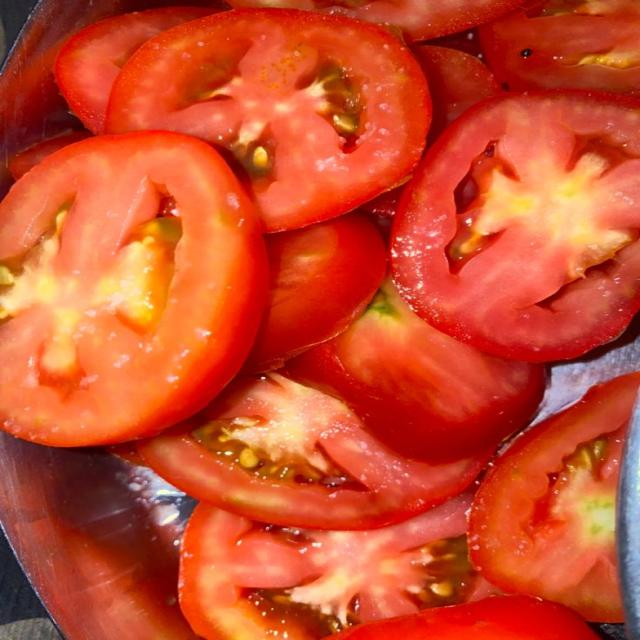sliced tomatoe: (0, 132, 266, 445), (107, 10, 431, 231), (392, 91, 639, 361), (139, 373, 490, 529), (287, 279, 545, 461), (180, 496, 478, 639), (470, 374, 639, 621), (245, 214, 386, 371), (54, 7, 213, 134), (480, 0, 639, 96), (327, 595, 599, 639), (230, 0, 521, 41), (412, 45, 501, 144), (412, 45, 501, 142), (9, 131, 91, 180)
